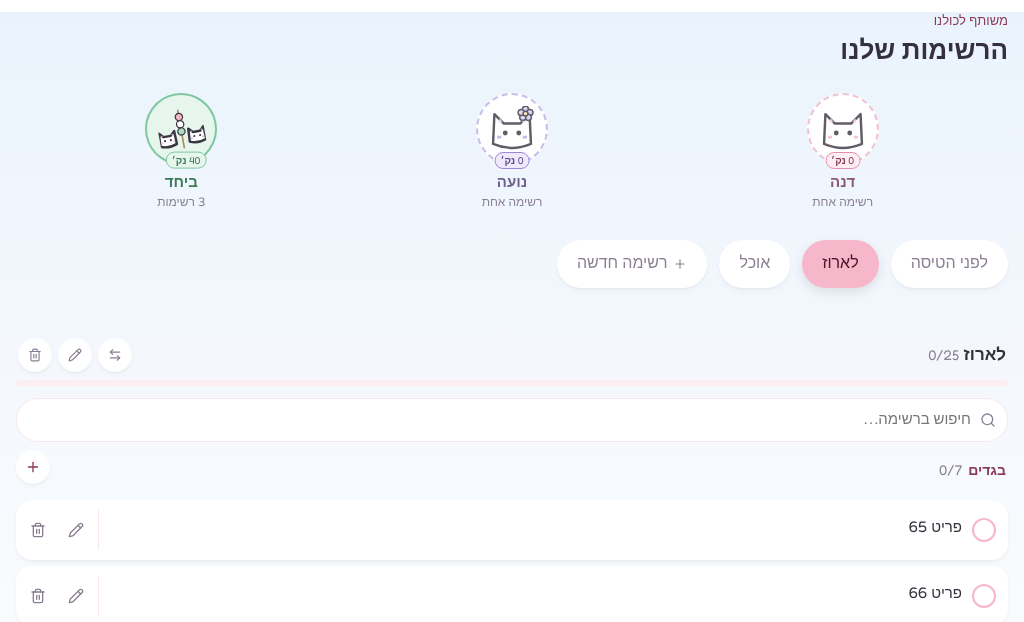
Test: whose lists › renames a list and moves it to another group from its ✏️, in one save
Click the button named "עריכת „לארוז”" at (75, 355), box left=58, top=338, right=92, bottom=372
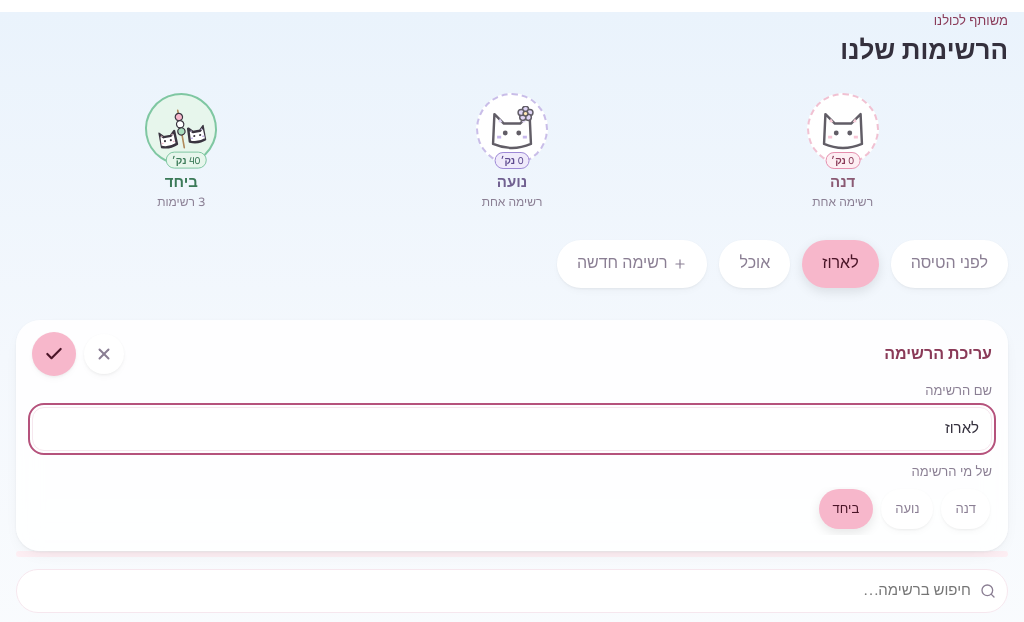
Replace the text in the field labelled "שם הרשימה" with "Suitcase" at (512, 428), box left=32, top=406, right=992, bottom=450
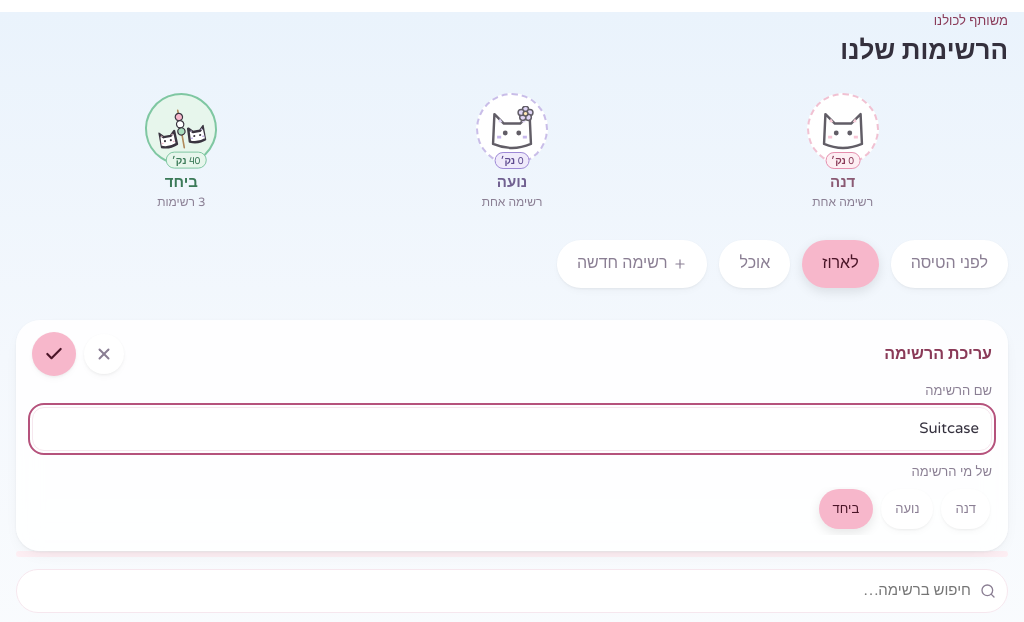
Click the button "דנה" at (966, 509), box left=942, top=489, right=990, bottom=529
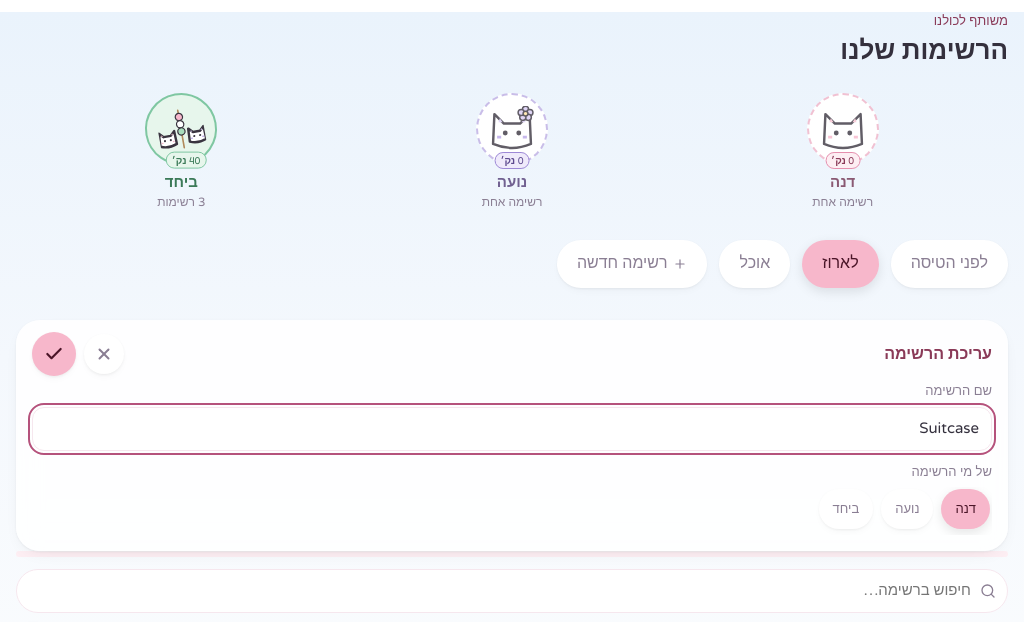
Click the button named "שמירה" at (54, 354), box left=32, top=332, right=76, bottom=376
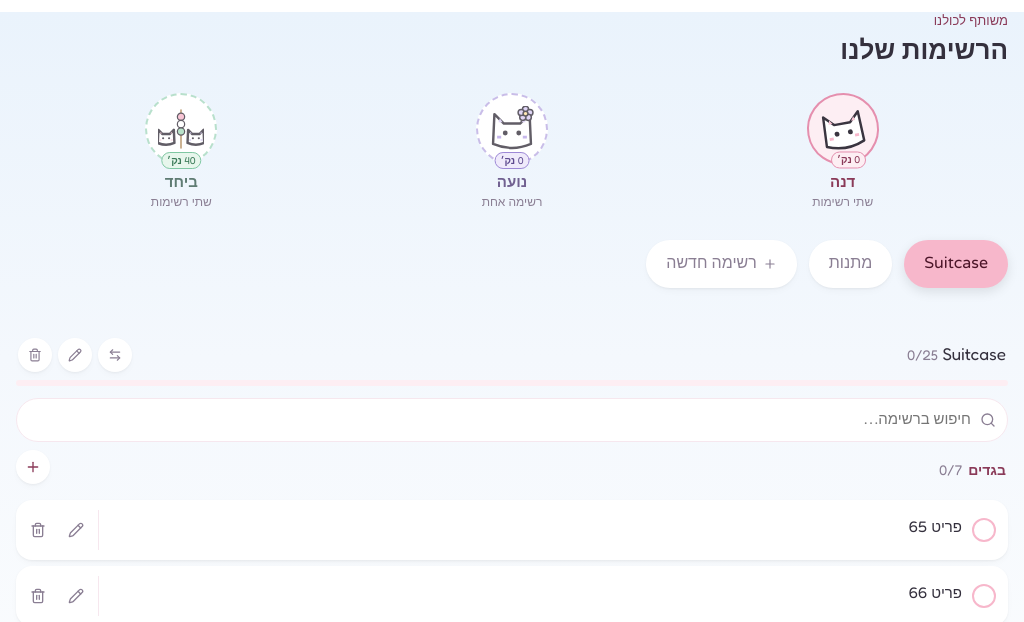
expect the label "שם הרשימה" is gone: met
